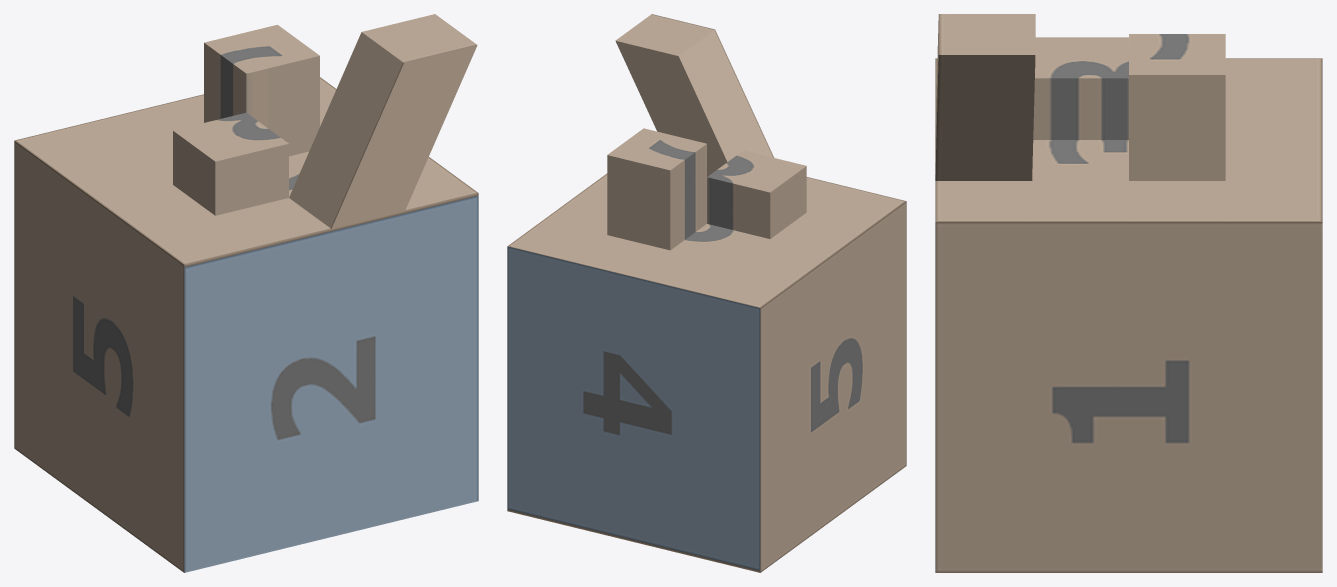
3 views of the same model, side by side, from view 1: azimuth 30°, elevation 25°; view 2: azimuth 150°, elevation 25°; view 3: azimuth 270°, elevation 25° (orthographic). The views are drawn at different scales.
Visible parts, largest first — view 1: Cube; view 2: Cube; view 3: Cube.
Boxes of the visible parts, left/top/right/bottom form: Cube: left=14, top=14, right=478, bottom=572; Cube: left=507, top=14, right=906, bottom=572; Cube: left=935, top=14, right=1322, bottom=572.
Size of the model in its own units: 2 by 2.95 by 2.
